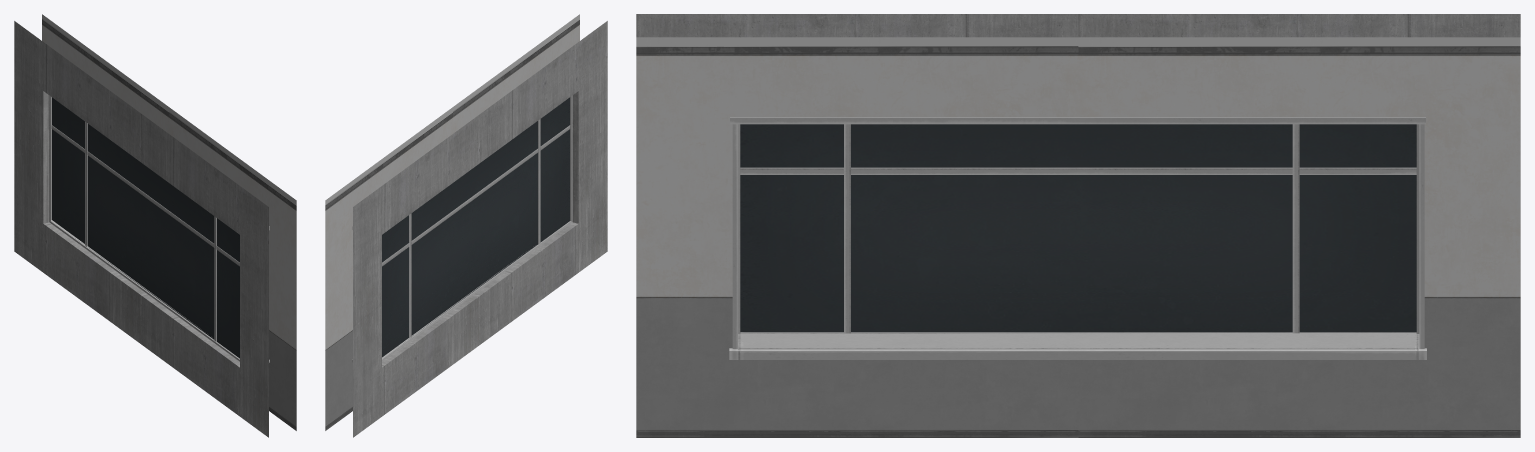
File: HH_Hospital_InteriorShowcase_8m_01.fbx
3 views of the same model, side by side, from view 1: azimuth 30°, elevation 25°; view 2: azimuth 150°, elevation 25°; view 3: azimuth 270°, elevation 25° (orthographic). The views are drawn at different scales.
Visible parts, largest first — view 1: HH_Hospital_InteriorShowcase_8m_01_LOD0; view 2: HH_Hospital_InteriorShowcase_8m_01_LOD0; view 3: HH_Hospital_InteriorShowcase_8m_01_LOD0.
Boxes of the visible parts, <box> form: HH_Hospital_InteriorShowcase_8m_01_LOD0: <box>14,14,296,437</box>; HH_Hospital_InteriorShowcase_8m_01_LOD0: <box>325,14,607,437</box>; HH_Hospital_InteriorShowcase_8m_01_LOD0: <box>636,14,1520,437</box>.
Size of what is drawn, in the model's own units: 55.34 by 400 by 800.
